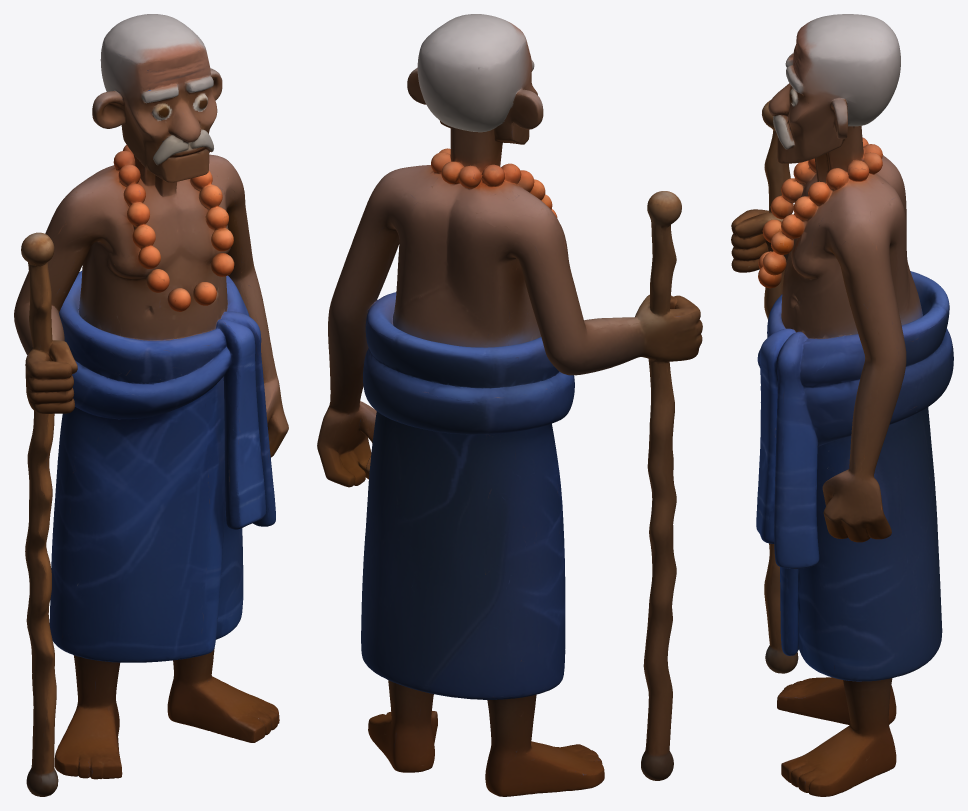
Rendered from olofin.glb.
3 renders of one model, left to right at view 1: azimuth 30°, elevation 25°; view 2: azimuth 150°, elevation 25°; view 3: azimuth 270°, elevation 25°, orthographic. The views are drawn at different scales.
Parts seen in each view (by area): view 1: geometry_0; view 2: geometry_0; view 3: geometry_0.
Part boxes in pixels (box(x1,y1,x2,y2)): geometry_0: box(14, 14, 288, 796); geometry_0: box(317, 14, 702, 796); geometry_0: box(731, 14, 953, 796).
Size of the model in its own units: 0.4509 by 1 by 0.28.
Materials: 1 (1 with a texture image).
